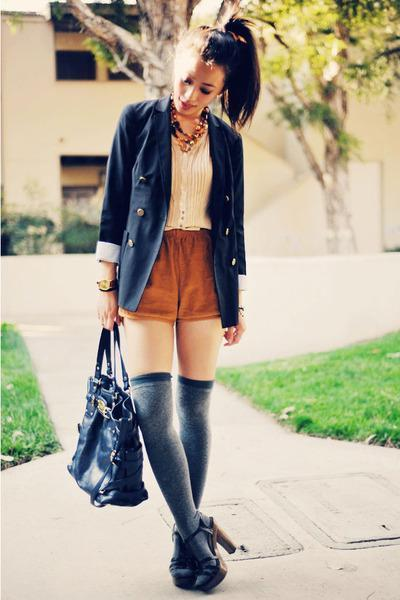Shorts: (117, 224, 242, 325)
jacket: (95, 97, 250, 329)
short sleeve shirt: (150, 112, 217, 240)
